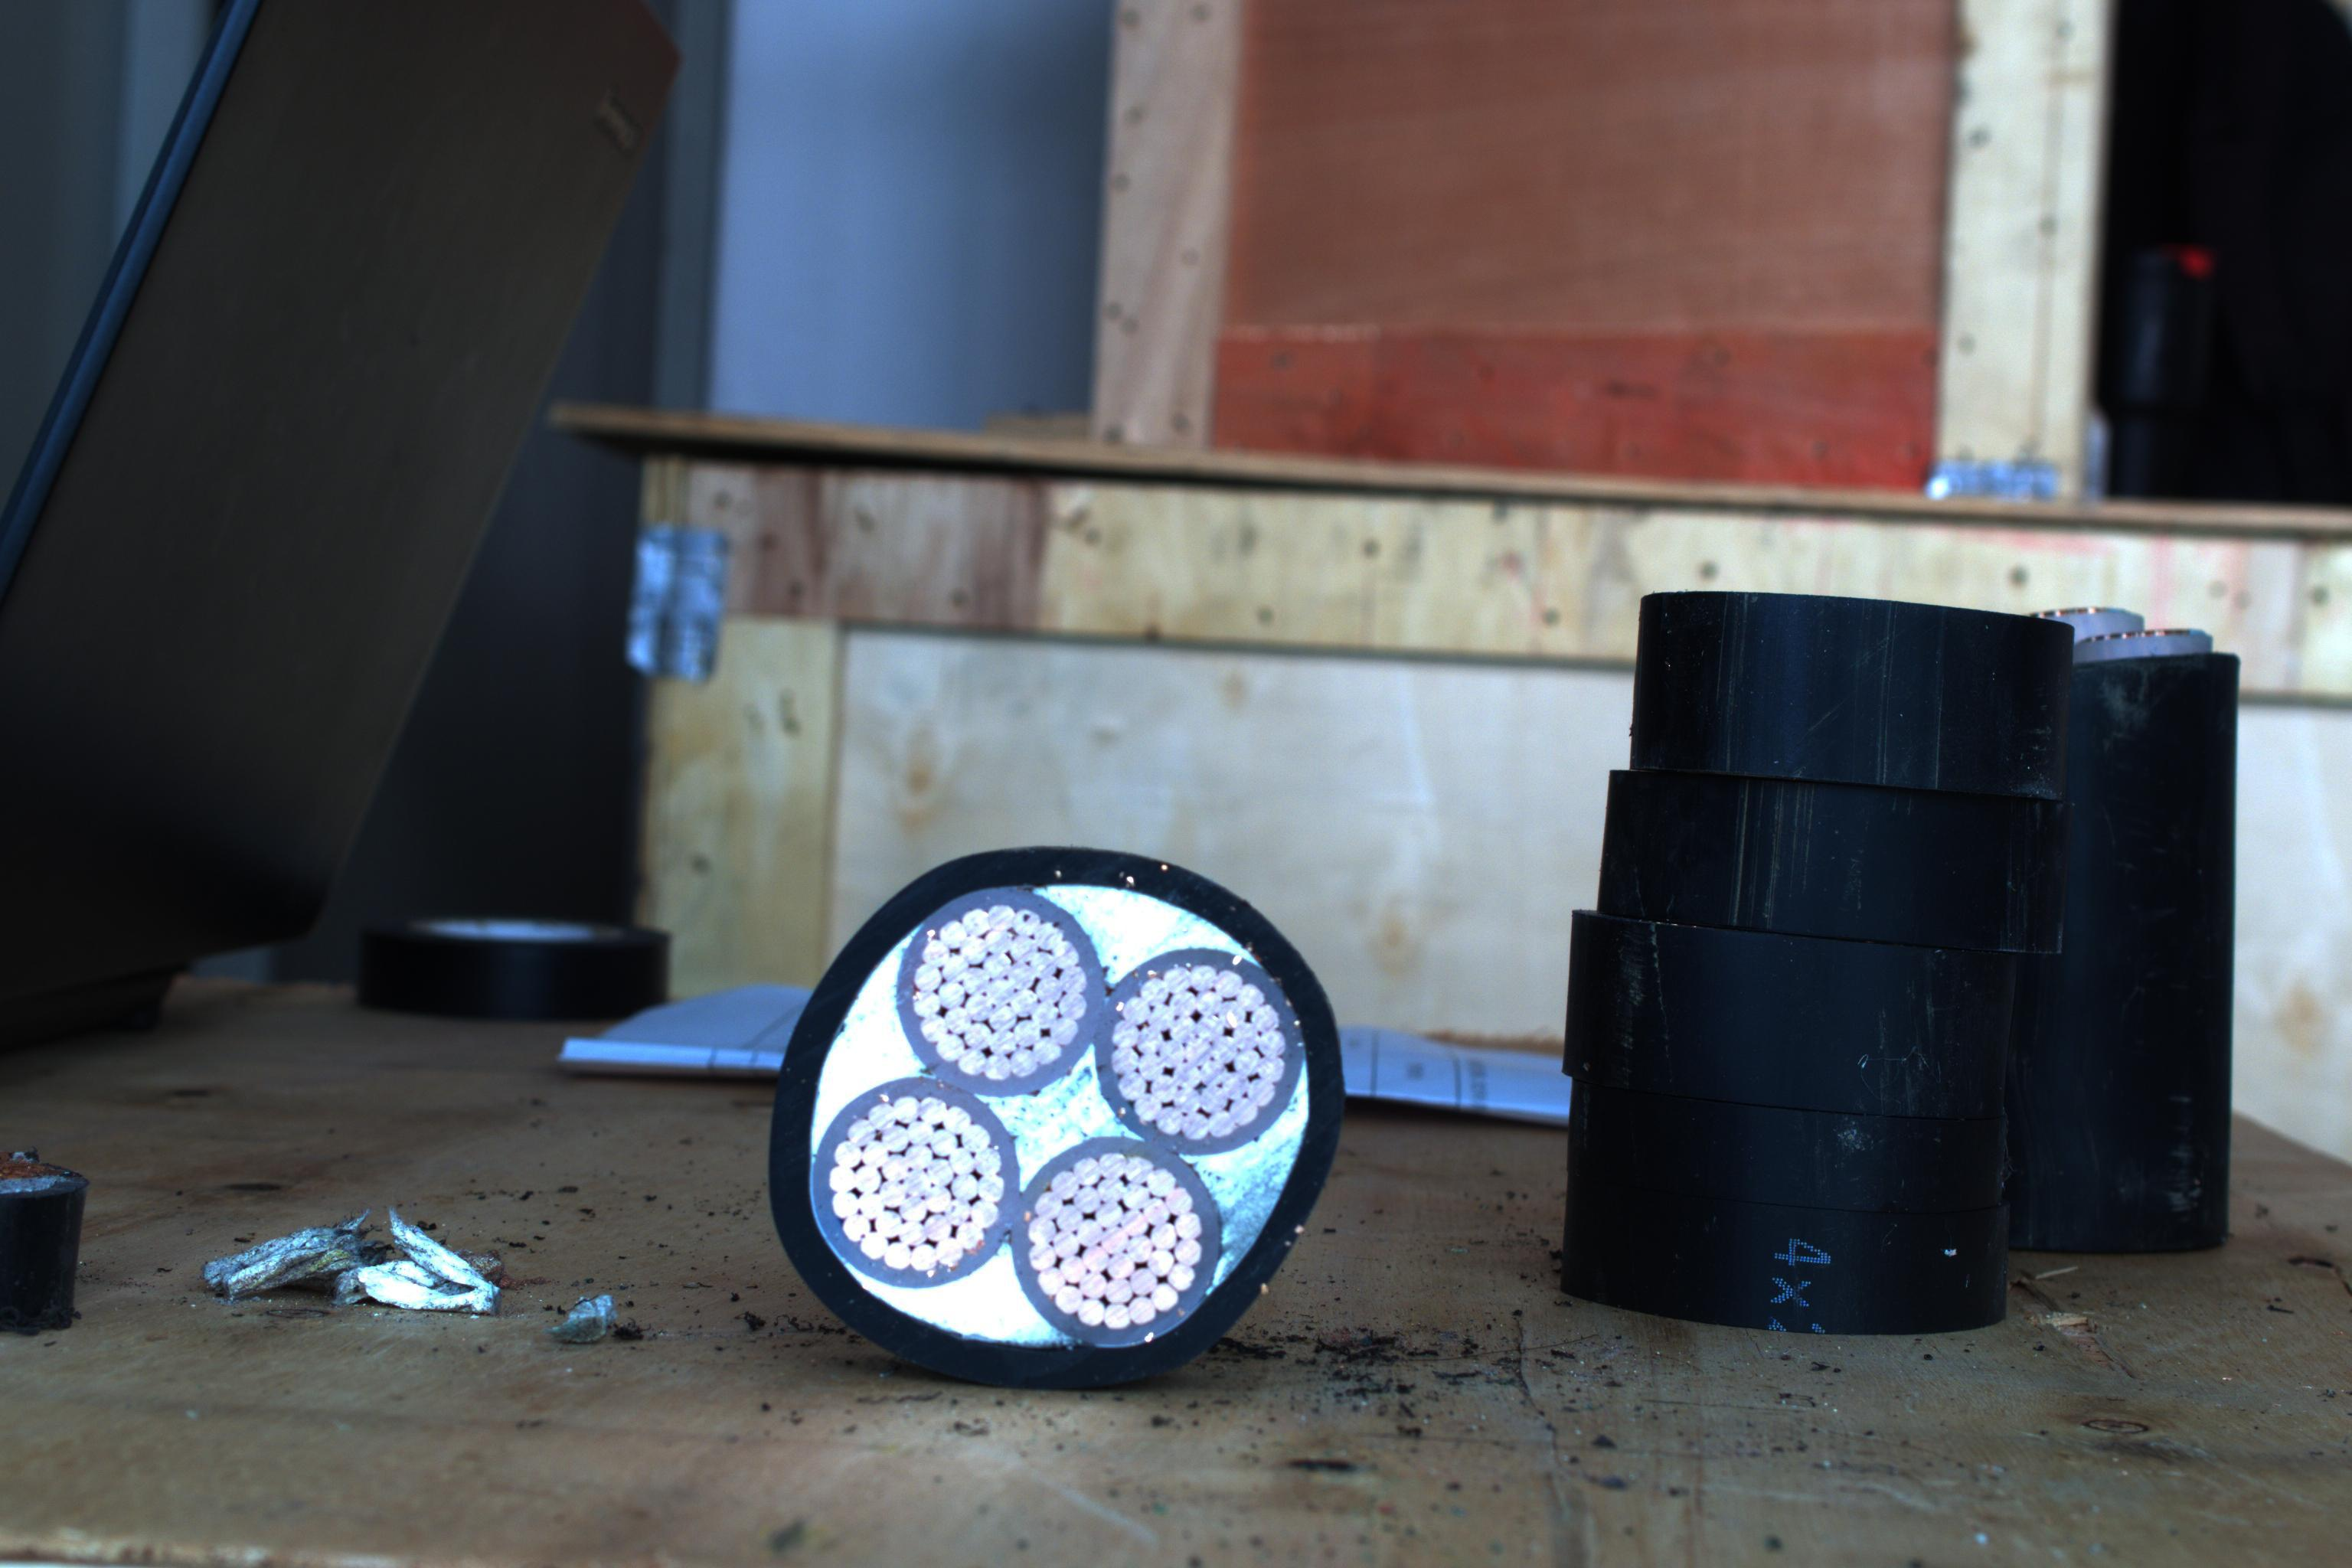YJV_0.6_1kV_4x240: (737, 840, 1370, 1410)
